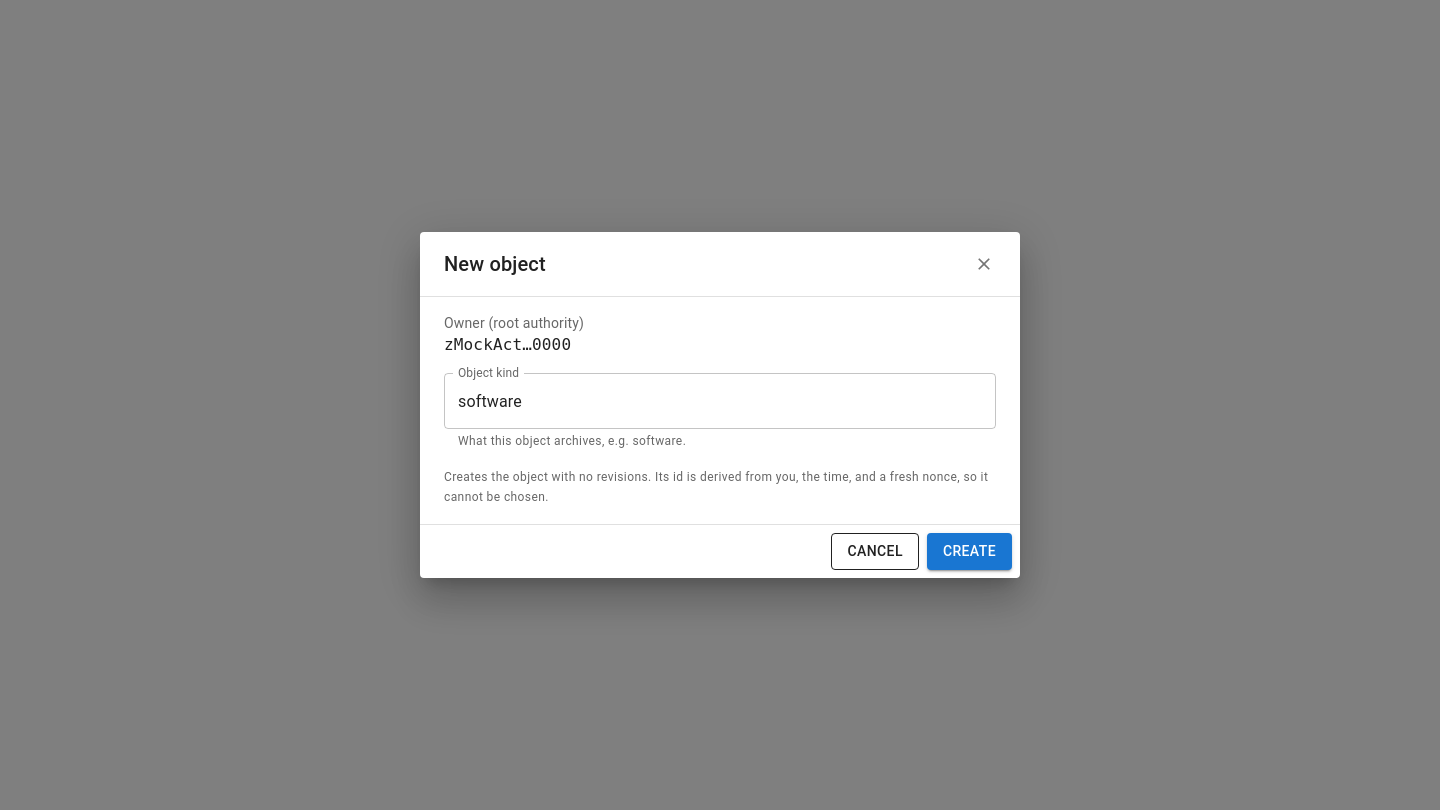
Test: <CreateObjectDialog /> › disables submit for an empty kind
Clear the dropdown with test id "create-object-kind-input" at (705,401), box [453,382,957,420]
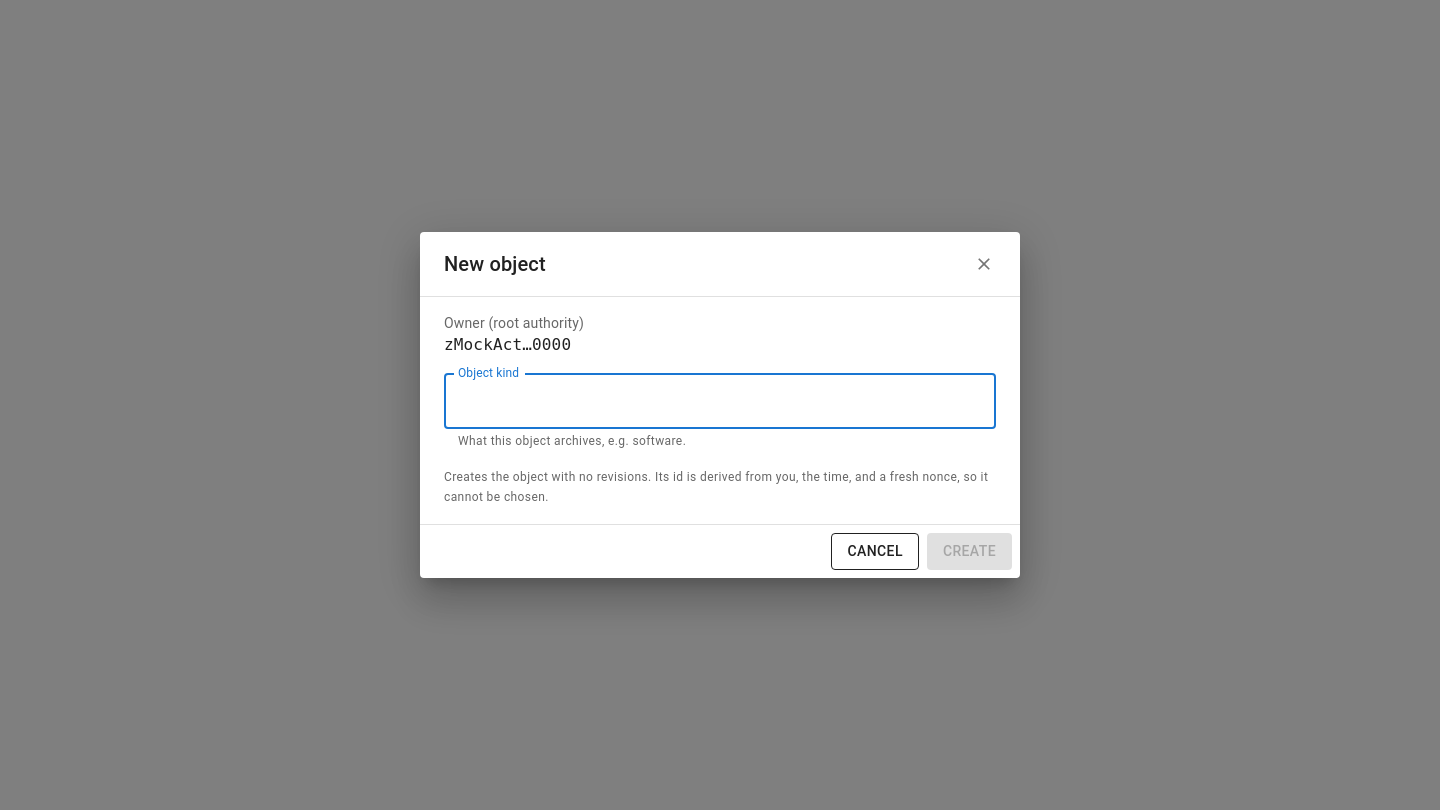
Now the button with test id "create-object-submit" is disabled, box [927,533,1012,570]
